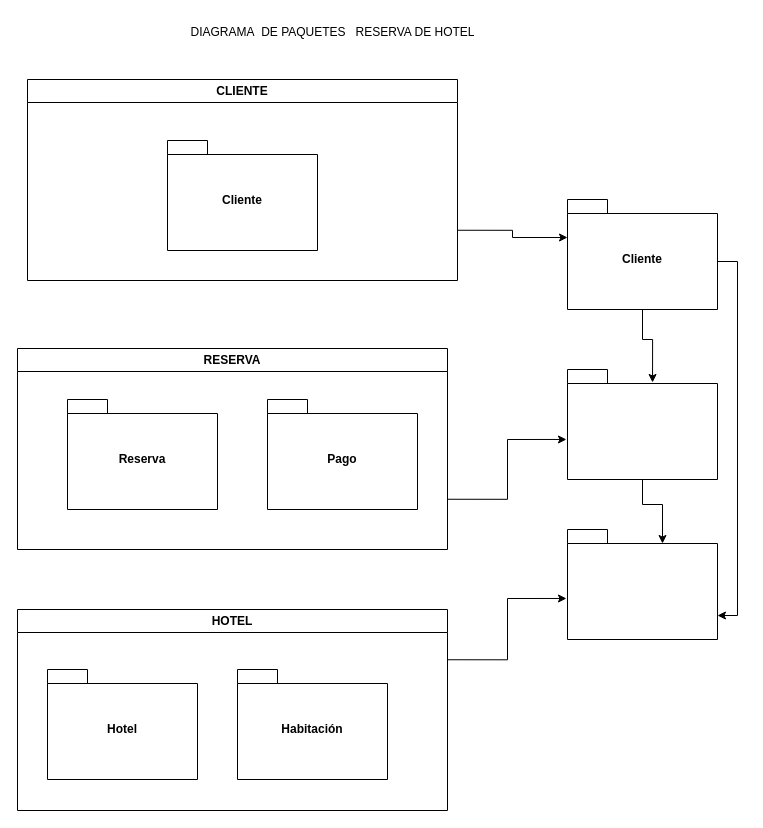
This 763x828 diagram has some shape labels left out. The centre of each missing label's shape, as x and y in pixels:
"Asignación de habitacion" goes at [642,584].
"Sistema de pago" goes at [642,424].
